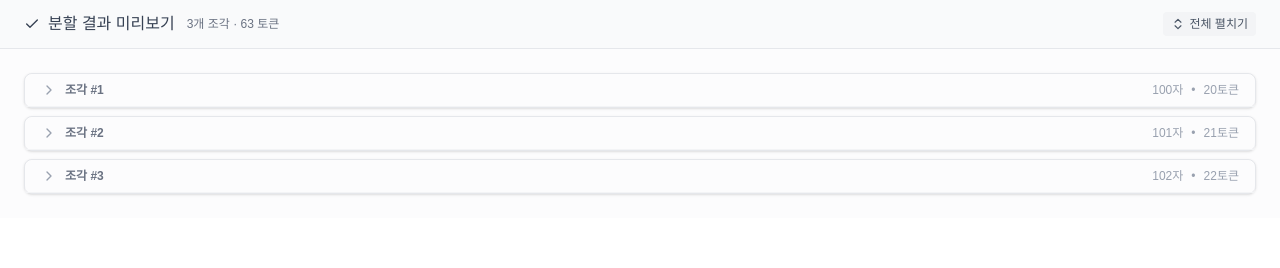
Test: ChunkPreviewList › Collapsible 기능 › 펼쳐진 조각을 다시 클릭하면 접힌다
Click the button "조각 #1 100자 • 20토큰": x=81, y=90 [25,74,1255,107]
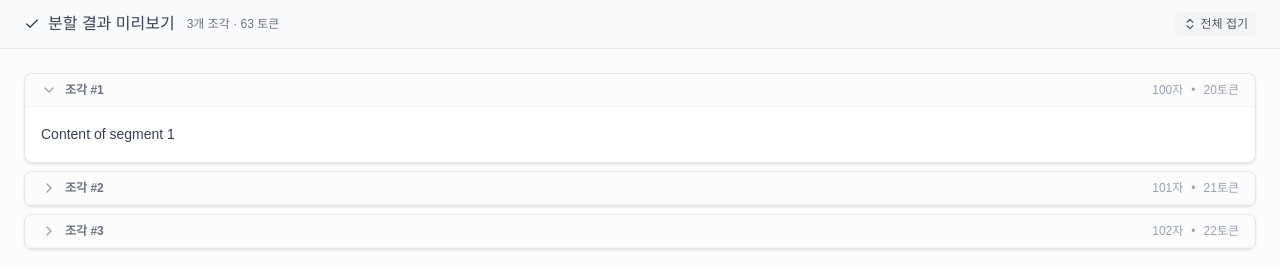
Expected: the text "Content of segment 1" is shown, [41,126,175,142]
Click the button "조각 #1 100자 • 20토큰": x=81, y=90 [25,74,1255,107]
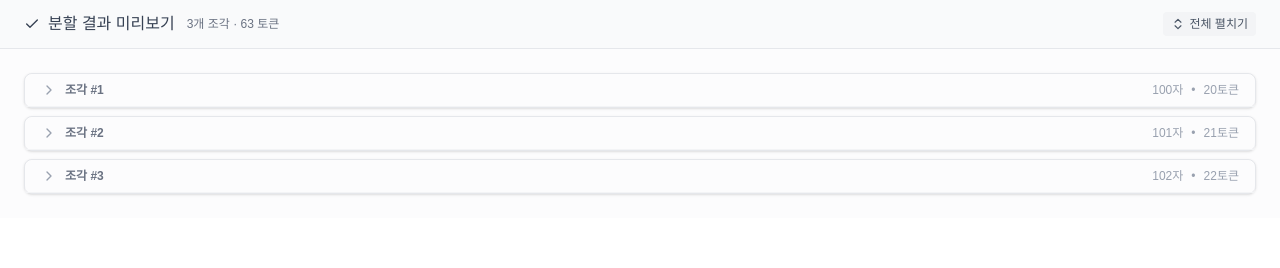
Expected: the text "Content of segment 1" is gone
